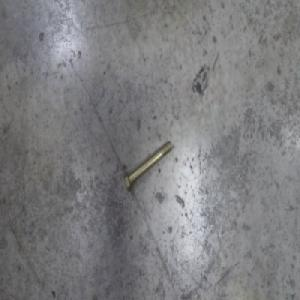Bolt: (123, 137, 173, 194)
